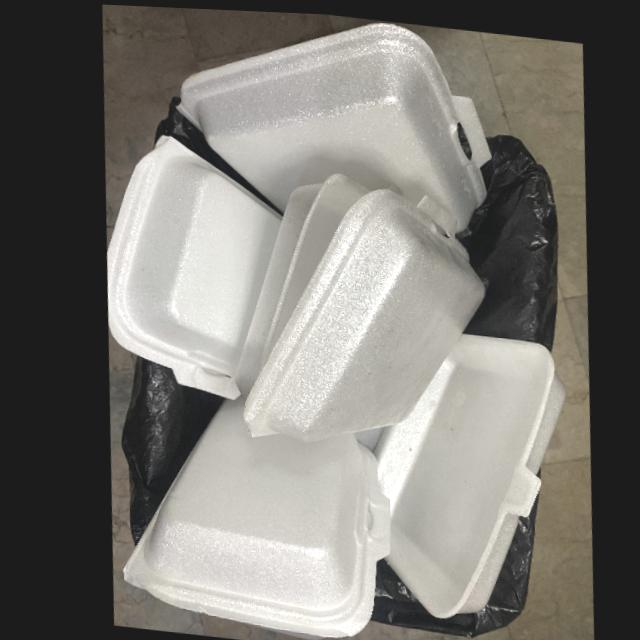styrofoam: (229, 171, 481, 441), (111, 394, 381, 639), (174, 19, 489, 226), (367, 330, 559, 618), (102, 134, 279, 399)
